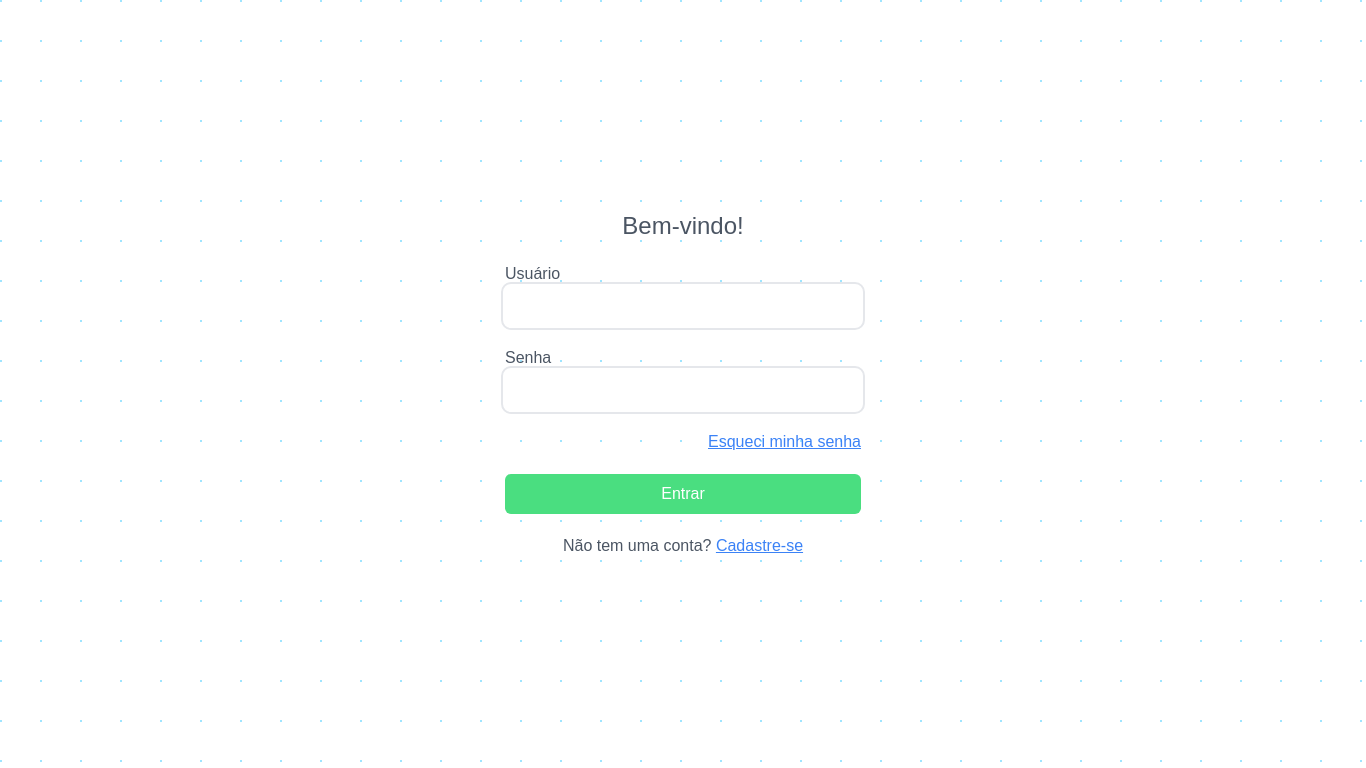
Test: Login tests › Check login error
Step 1. Type "admin" into the field with class "username" → [683, 306], box x1=505 y1=286 x2=861 y2=326
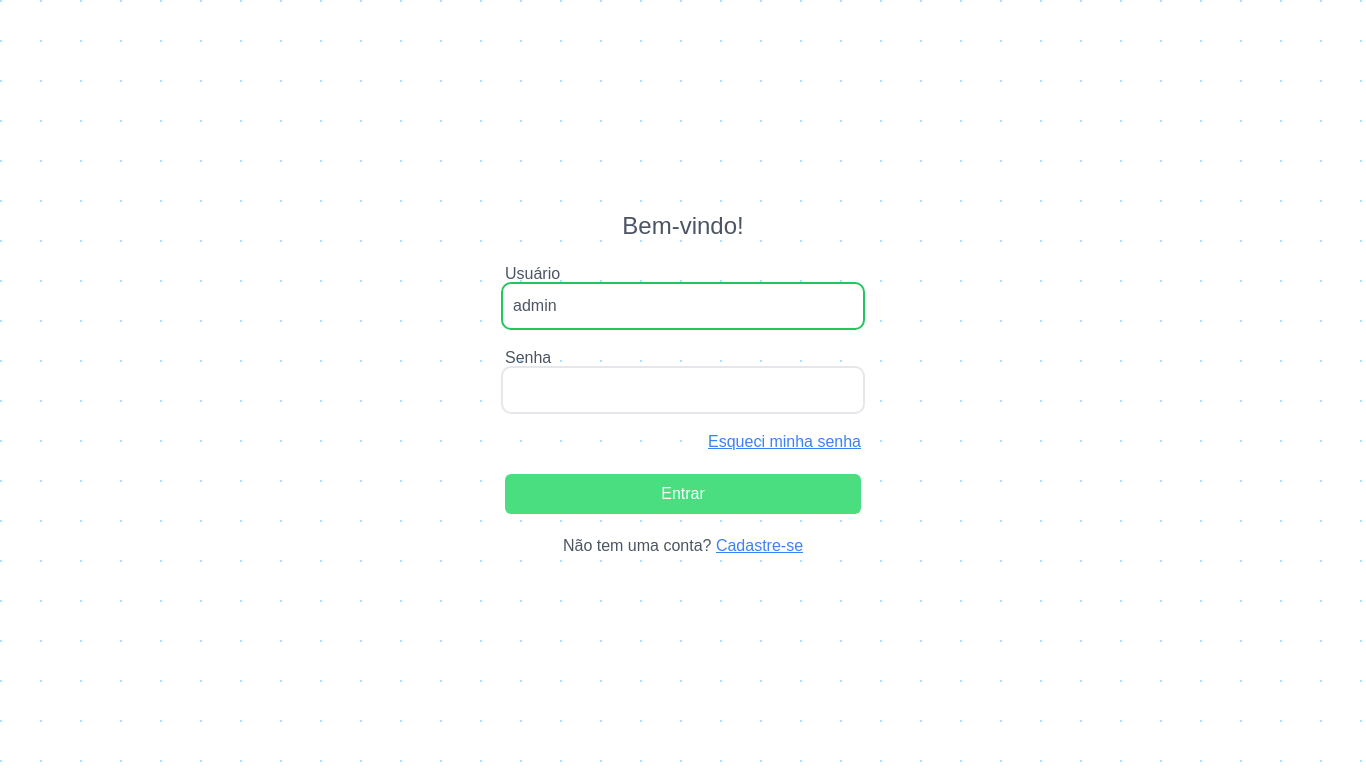
Step 2. Type "278364823" into the password field → [683, 390], box x1=505 y1=370 x2=861 y2=410
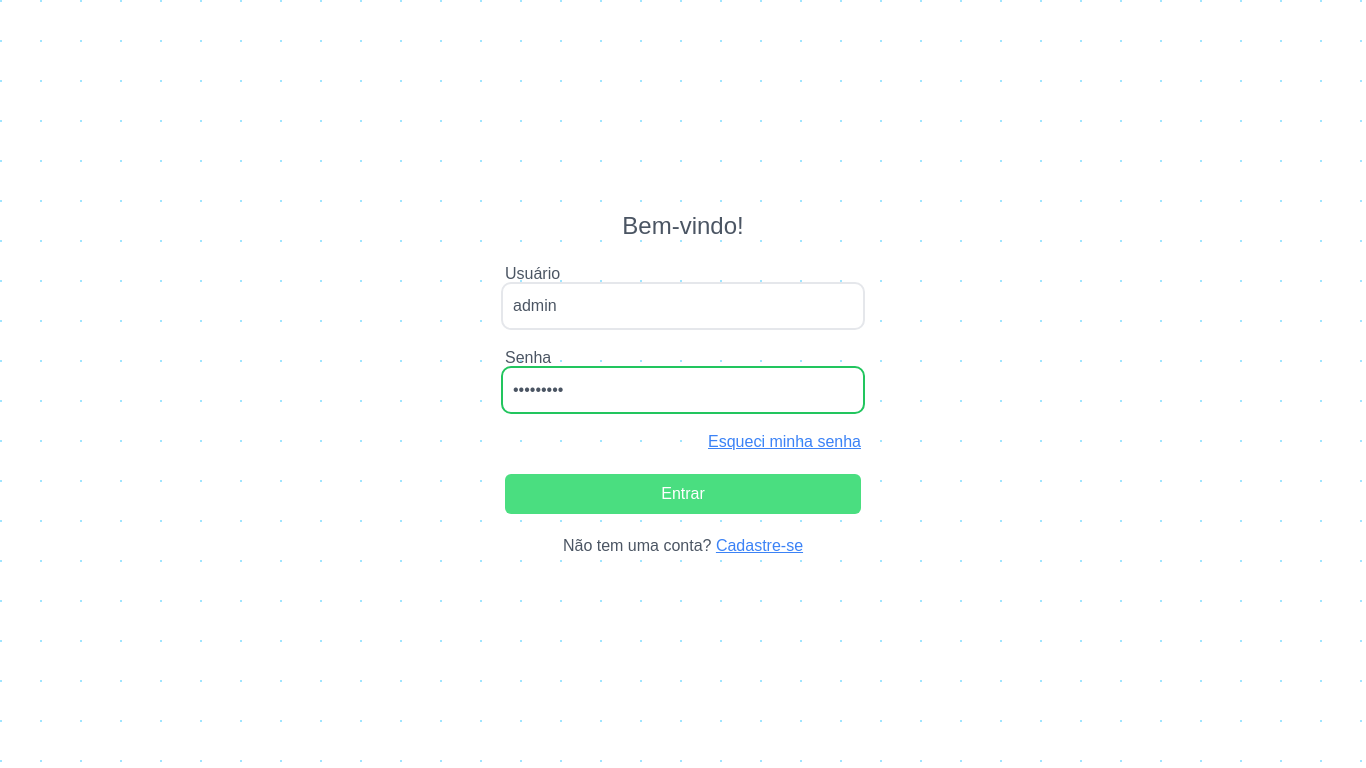
Step 3. Click the button with class "btn-save" → [683, 494], box x1=505 y1=474 x2=861 y2=514
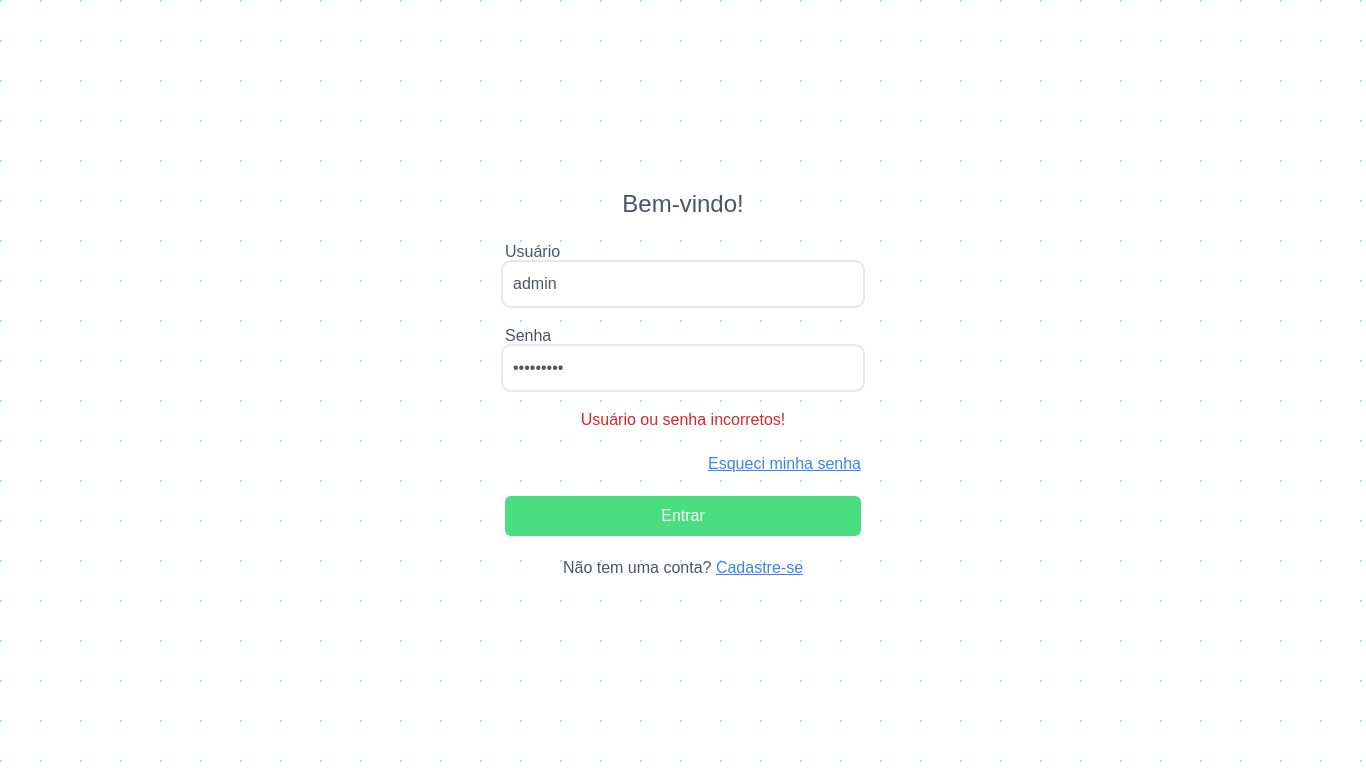
Check: the text "Usuário ou senha incorretos!" is shown, box x1=581 y1=408 x2=785 y2=432
